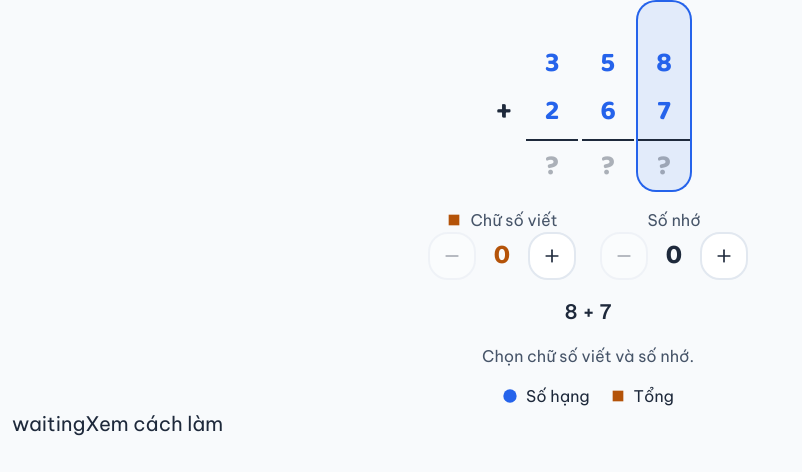
Scenario: addition and subtraction: work out one column › phep-cong-phep-tru.visual.cot-cong-tu-lam holds Tiếp until digit and carry are right
Click the button named "Tăng chữ số viết". click: (552, 256)
box: [528, 232, 576, 280]
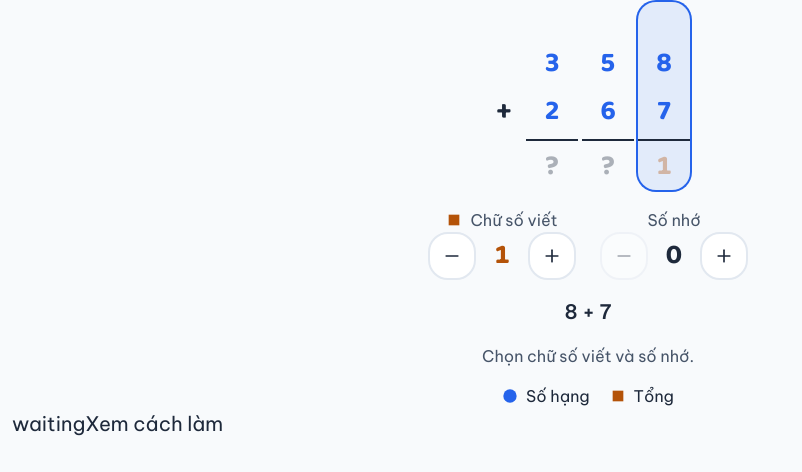
Click the button named "Tăng chữ số viết". click: (552, 256)
box: [528, 232, 576, 280]
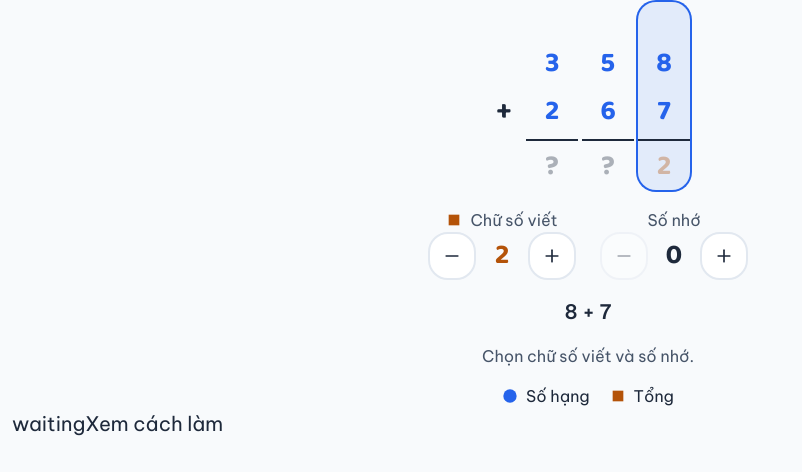
Click the button named "Tăng chữ số viết". click: (552, 256)
box: [528, 232, 576, 280]
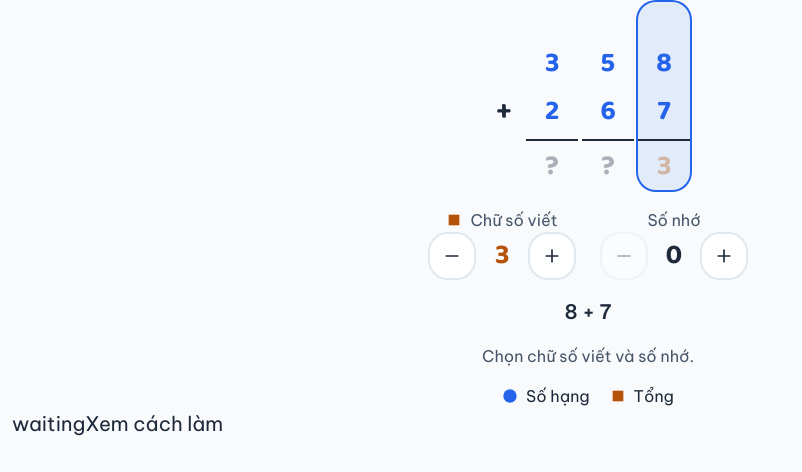
Click the button named "Tăng chữ số viết". click: (552, 256)
box: [528, 232, 576, 280]
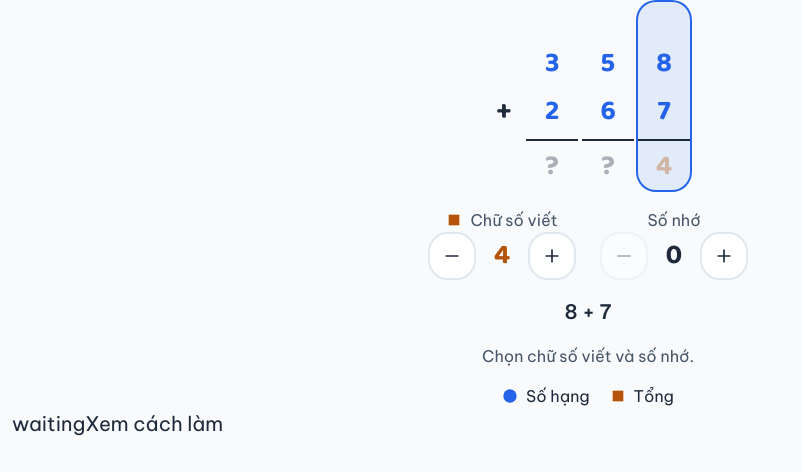
Click the button named "Tăng chữ số viết". click: (552, 256)
box: [528, 232, 576, 280]
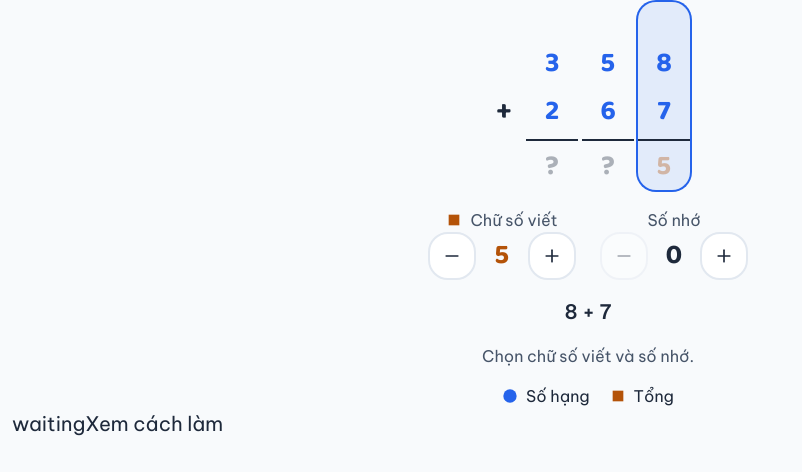
Expected: the text with test id "bar" reads "waiting", [12, 411, 85, 436]
Click the button named "Tăng số nhớ". click: (724, 256)
box: [700, 232, 748, 280]
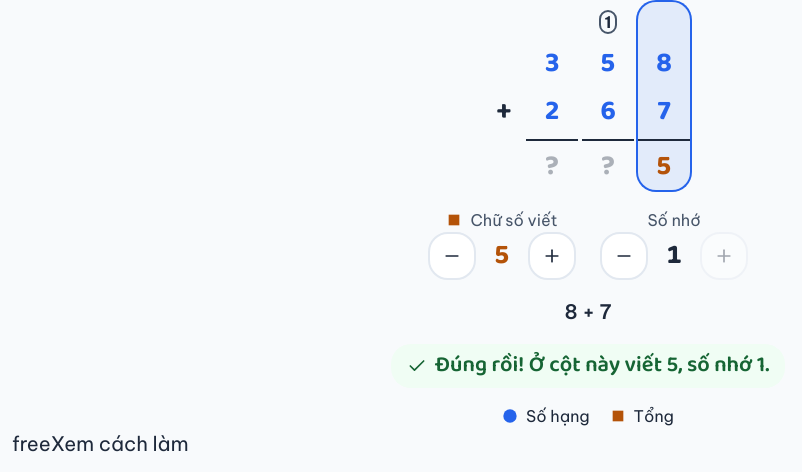
Expected: the text with test id "bar" reads "free", [12, 430, 51, 456]
Expected: the element showing "Đúng rồi! Ở cột này viết 5, số nhớ 1." is shown, [391, 344, 785, 388]
